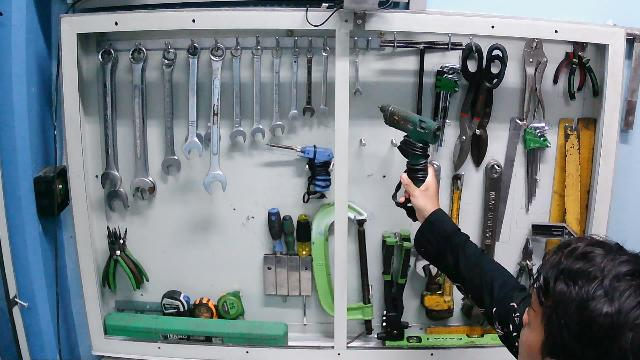gun_lem: (376, 99, 445, 222)
